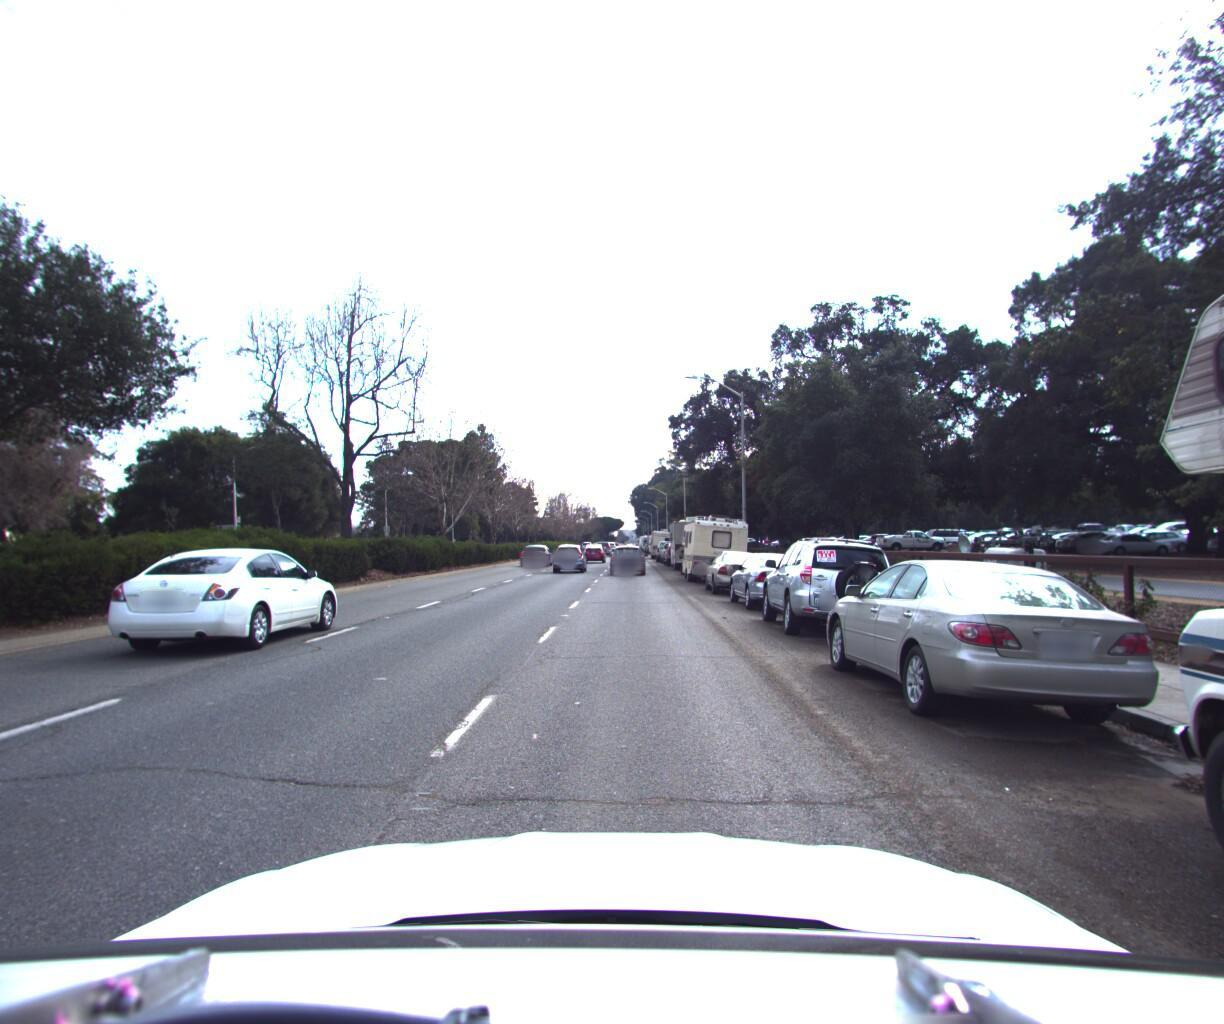car: (801, 543, 1176, 755), (97, 533, 346, 663), (749, 524, 913, 639), (719, 542, 823, 613), (697, 540, 773, 592), (602, 534, 648, 573), (545, 536, 591, 570), (513, 537, 554, 565), (659, 530, 694, 560), (576, 535, 606, 558), (652, 532, 678, 556)
other_vehicle: (925, 510, 1112, 595), (673, 504, 747, 581), (663, 506, 720, 566), (646, 520, 677, 552)
